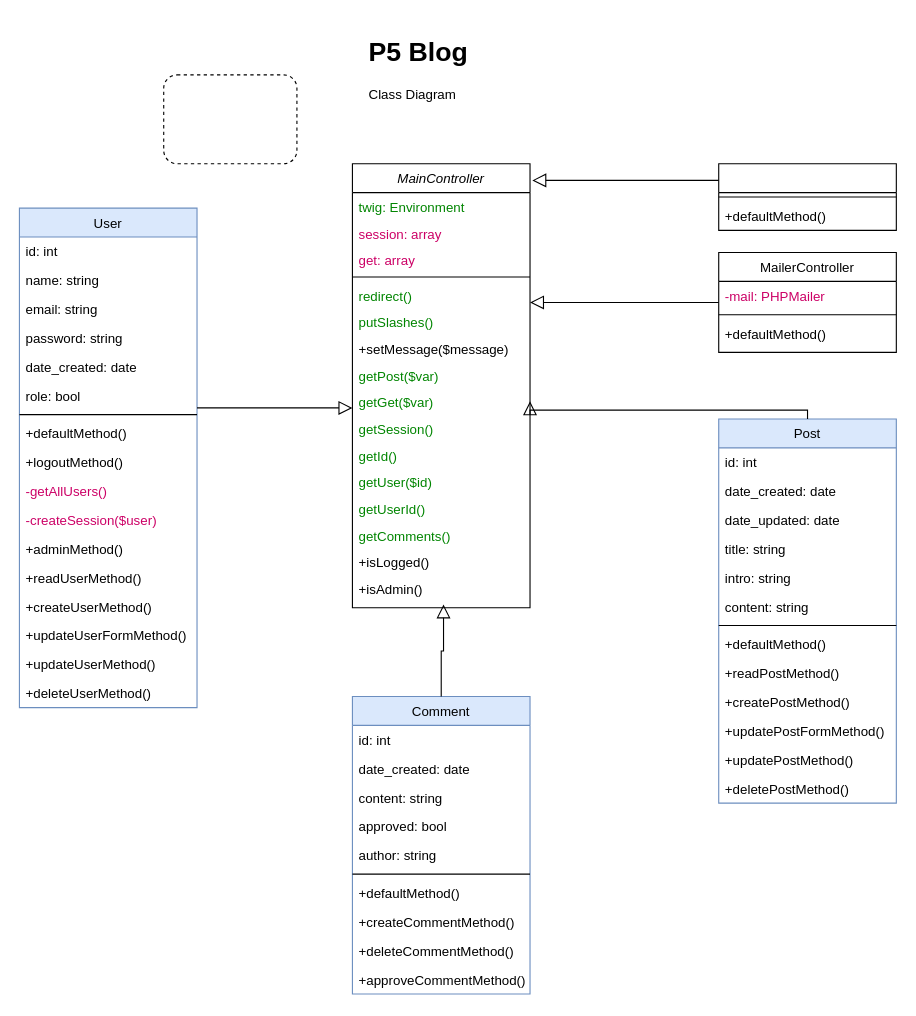
The diagram is 916 pixels wide and 1016 high, and some of its shapes have lost their labels. The shapes that lost their labels are listed below. From the top down, each one's box as (x1, y1, x2, y2) in pixels, then its label:
(163, 74, 297, 164): -private protected +public in database
(718, 163, 896, 230): HomeController
